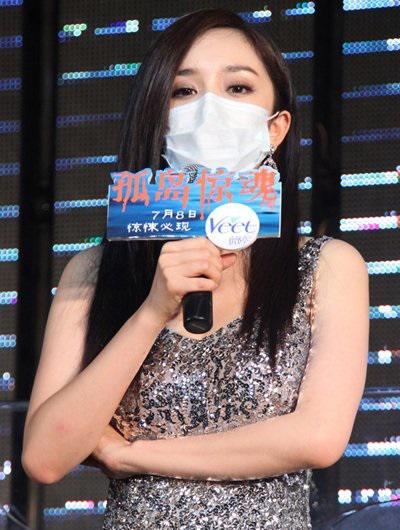OK: (153, 61, 274, 182)
